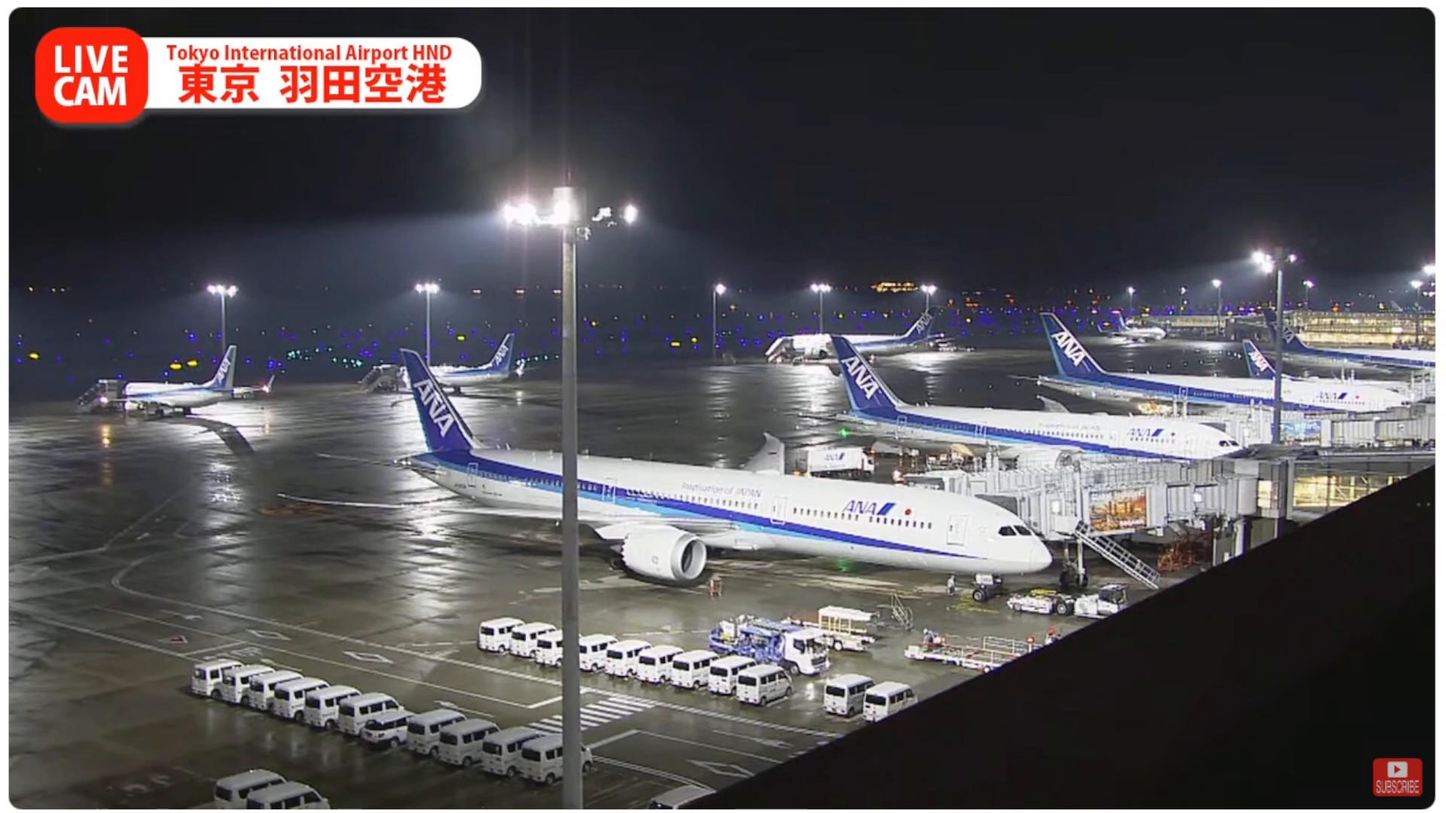Aerobridge: (899, 456, 1287, 522), (991, 479, 1253, 538)
Airplane: (269, 349, 1055, 587)
Fuel Tanker: (707, 610, 837, 683)
JCPL: (895, 638, 1015, 674)
Skyloader: (813, 603, 889, 656)
Tow Tug: (1008, 577, 1136, 624)
Window: (1290, 451, 1437, 524)
